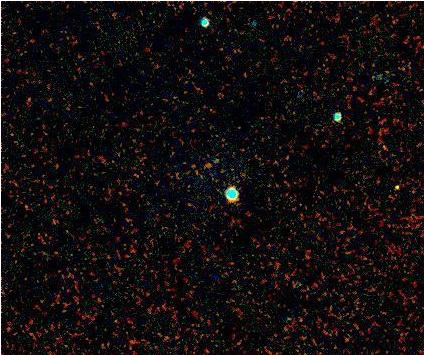star: (379, 175, 409, 205)
